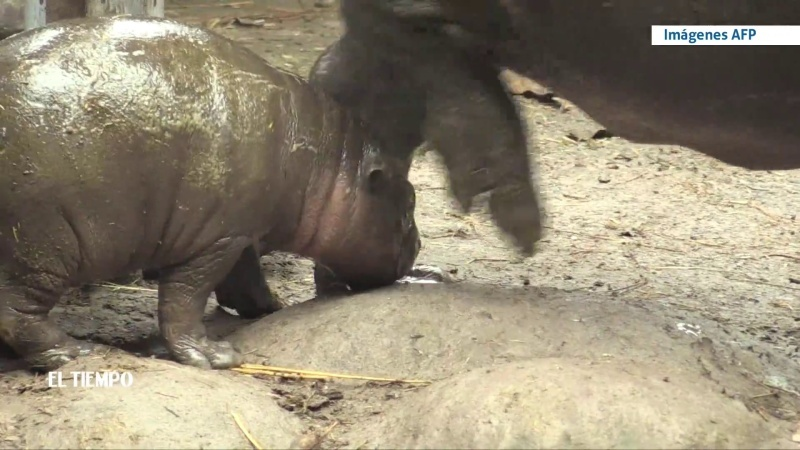hipopotamo: (1, 3, 444, 391)
